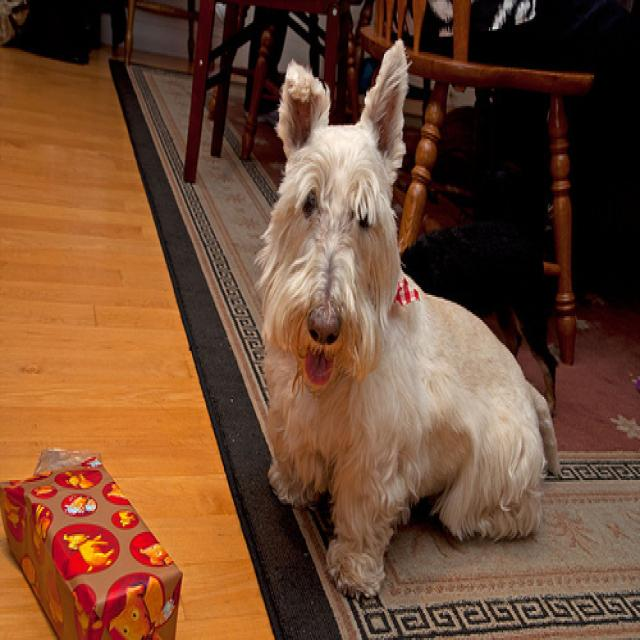dog-scottish_terrier: (250, 31, 567, 605)
